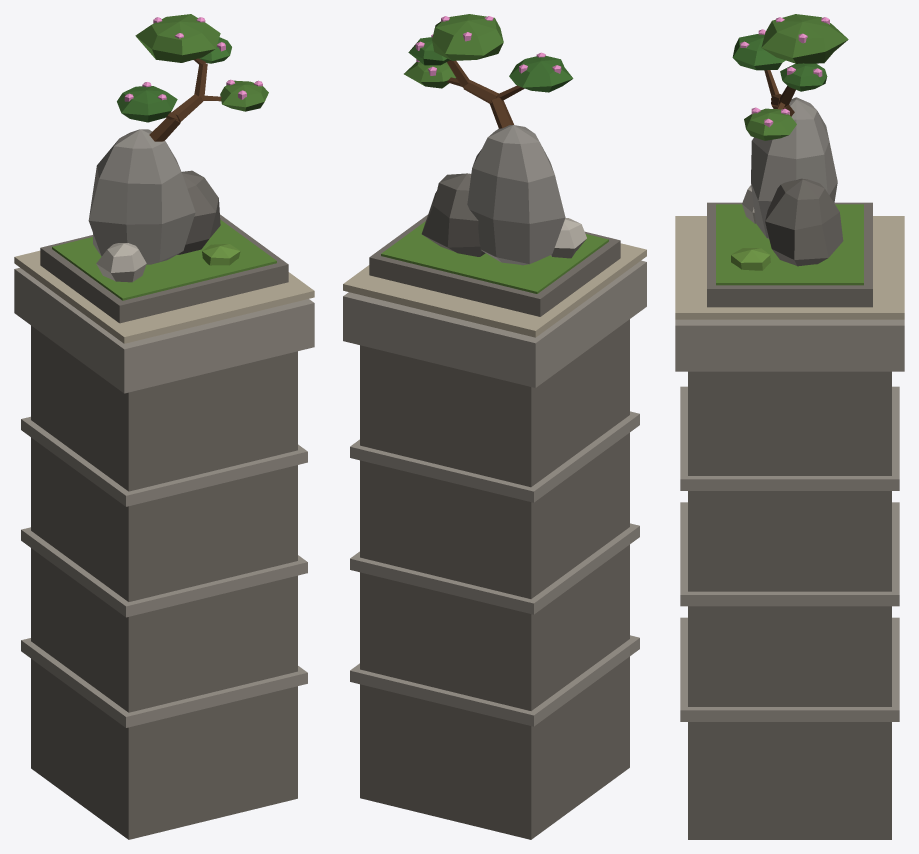
The model's file is decor_bonsai_rock.glb.
The picture shows the model from 3 angles, left to right: view 1: azimuth 30°, elevation 25°; view 2: azimuth 150°, elevation 25°; view 3: azimuth 270°, elevation 25°; orthographic projection. The views are drawn at different scales.
Visible parts, largest first — view 1: decor_bonsai_rock; view 2: decor_bonsai_rock; view 3: decor_bonsai_rock.
Part boxes in pixels (<box>): decor_bonsai_rock: <box>14,14,314,839</box>; decor_bonsai_rock: <box>343,14,646,839</box>; decor_bonsai_rock: <box>675,14,904,839</box>.
Size of the model in its own units: 1.8 by 6.8 by 1.8.
